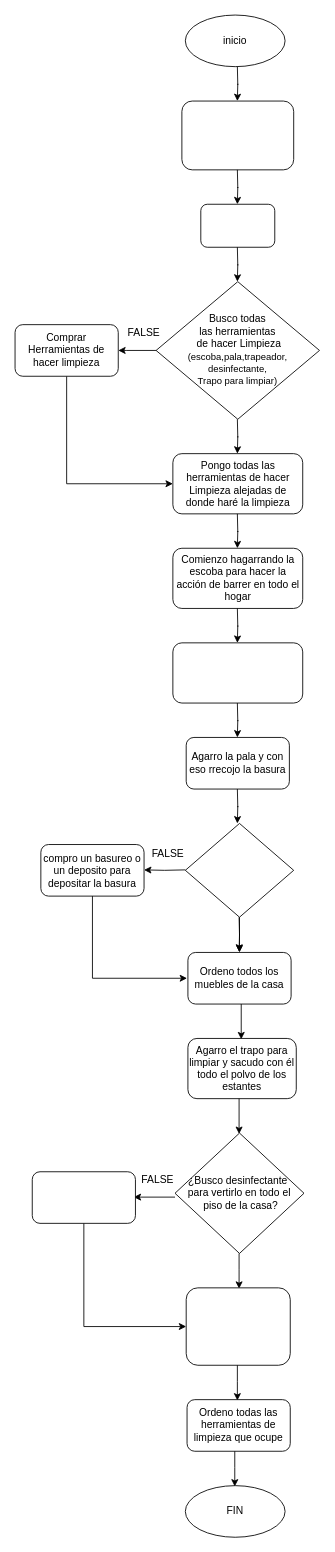
This 335x1552 diagram has some shape labels left out. Each missing label, with the centre of its shape:
"compro o creo un desinfectante nuevo" belongs at (x=83, y=1197).
"ir a la bodega" belongs at (x=237, y=225).
"Luego agarro el trapeador para realizar la acción de trapear en todo el hogar" belongs at (x=237, y=1326).
"Me levanto de donde estoy sentado" belongs at (x=237, y=135).
"Pongo toda la basura que barrí fuera del hogar" belongs at (x=237, y=672).
"¿Deposito la basura en un basurero?" belongs at (x=239, y=870).
